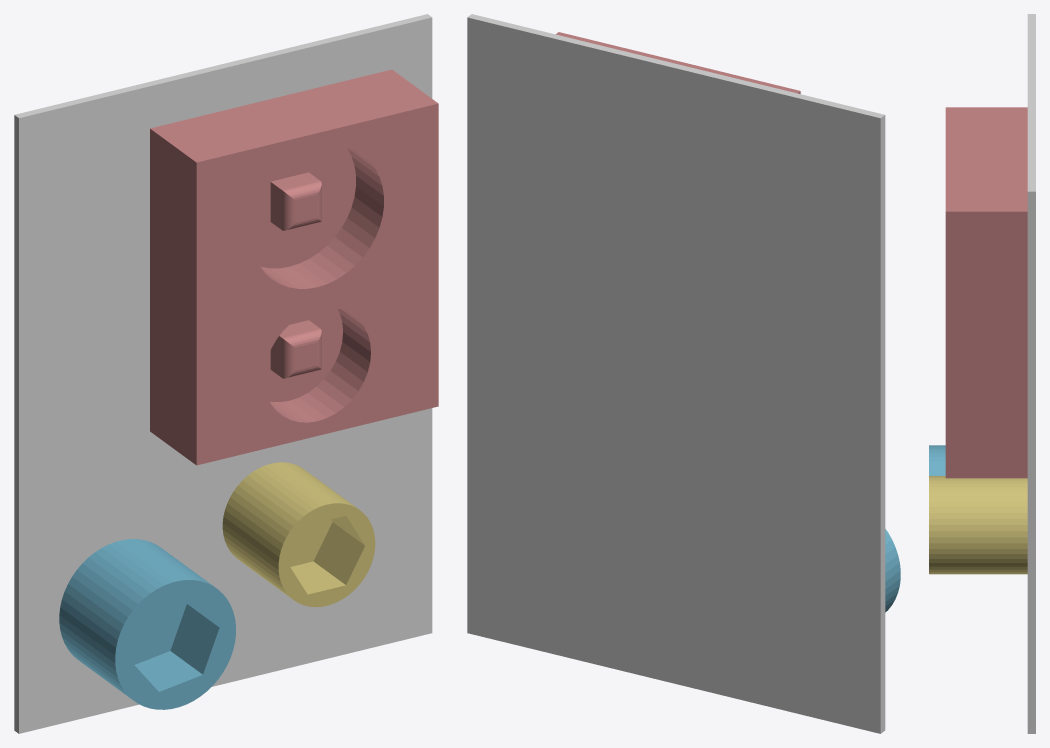
Rendered from pickup_layout.glb.
The picture shows the model from 3 angles, left to right: view 1: azimuth 30°, elevation 25°; view 2: azimuth 150°, elevation 25°; view 3: azimuth 270°, elevation 25°; orthographic projection. The views are drawn at different scales.
Parts seen in each view (by area): view 1: world, 0.obj, 2.obj, 1.obj; view 2: world, 2.obj, 0.obj; view 3: 0.obj, 1.obj, world, 2.obj.
Boxes of the visible parts, x1,y1,x2,y2 form: world: [14, 14, 432, 733]; 0.obj: [150, 69, 438, 465]; 2.obj: [59, 539, 235, 709]; 1.obj: [222, 462, 375, 607]; world: [467, 14, 885, 733]; 2.obj: [885, 529, 900, 612]; 0.obj: [556, 32, 800, 93]; 0.obj: [945, 107, 1027, 478]; 1.obj: [929, 476, 1027, 574]; world: [1027, 14, 1035, 733]; 2.obj: [929, 445, 945, 475].
Bounding box in the file's own units: 10.25 × 14.58 × 2.6.
